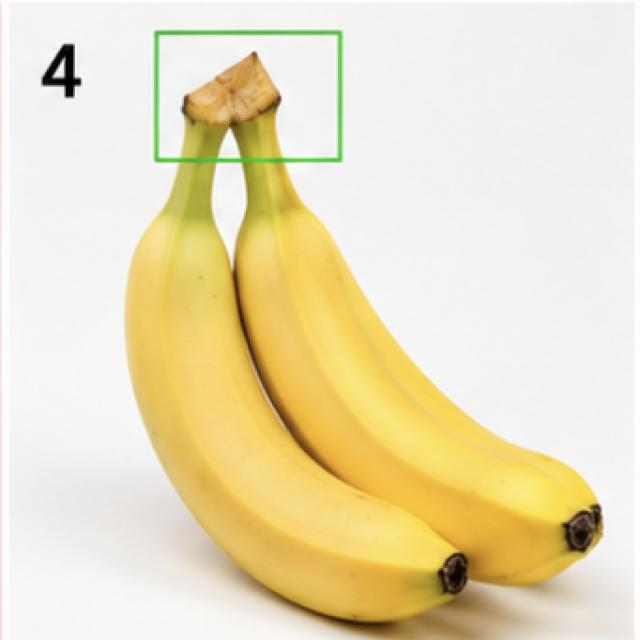Fruit-Stem-Detection: (159, 26, 333, 161), (164, 49, 303, 211)
